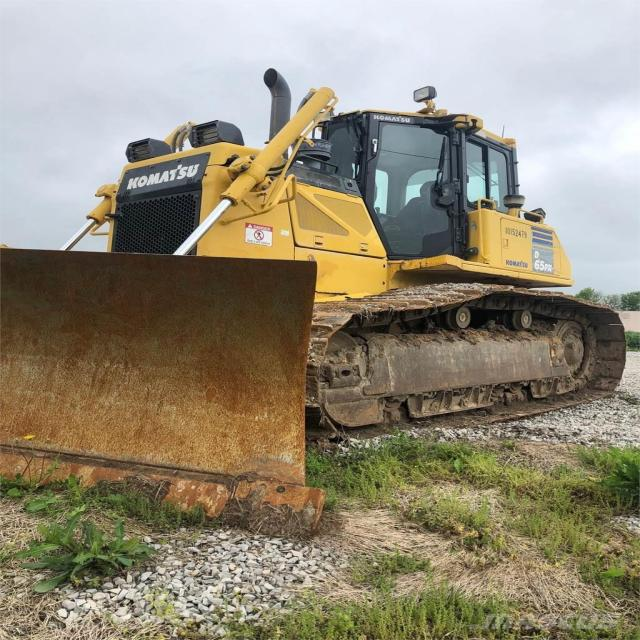Bulldozer: (6, 64, 640, 545)
